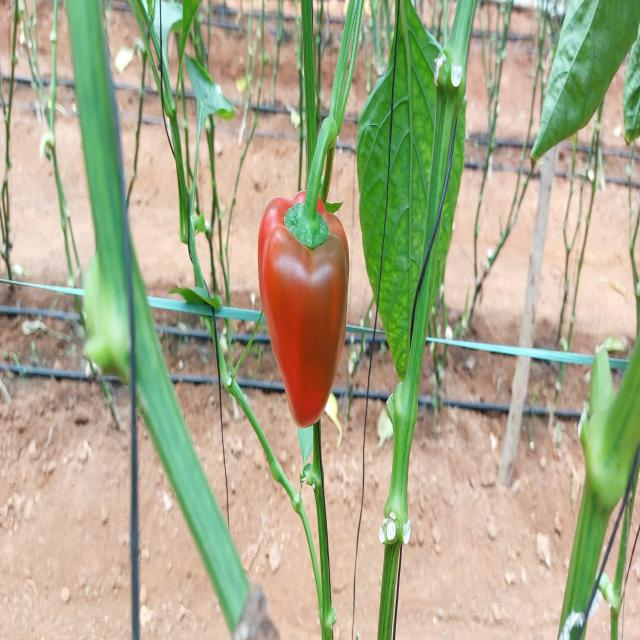Red-Ready-to-Harvest: (258, 195, 357, 435)
